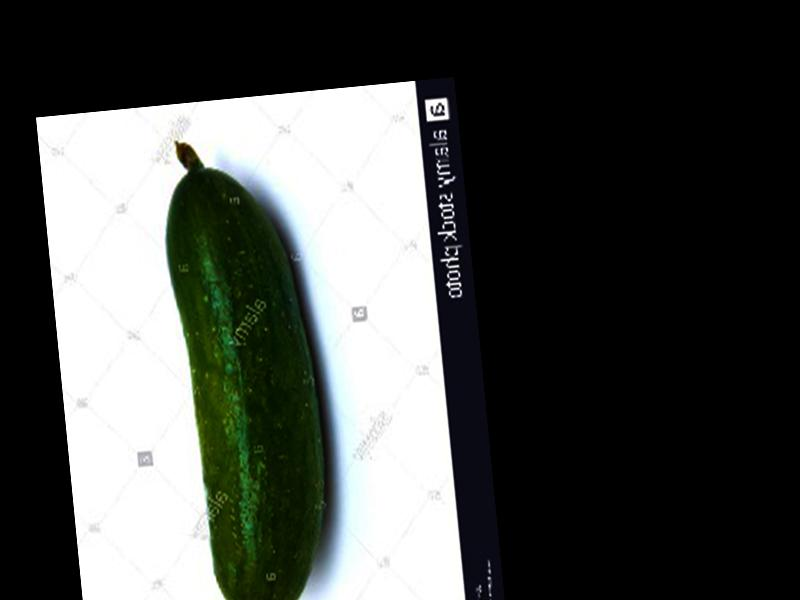Cucumber: (155, 130, 339, 600)
